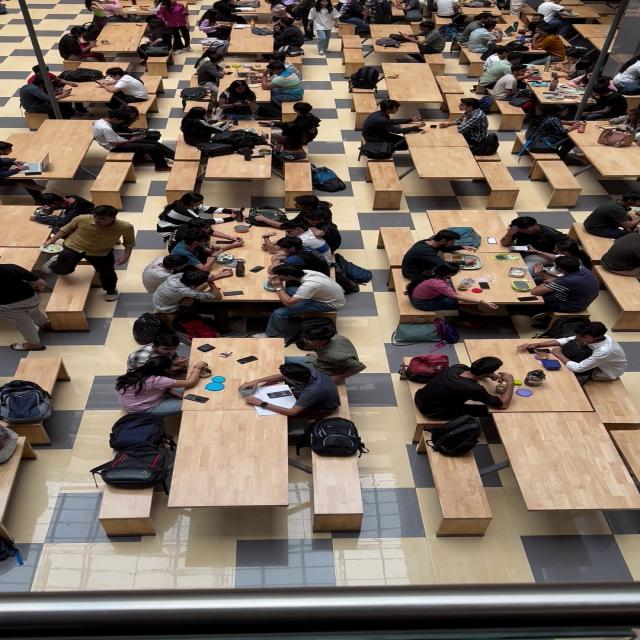Occupied: (26, 199, 161, 306), (190, 47, 316, 114), (95, 408, 177, 496), (16, 62, 155, 112), (0, 254, 70, 350), (174, 110, 320, 156), (0, 374, 65, 469), (0, 133, 63, 192)
Unoccupied: (95, 495, 166, 533), (360, 161, 417, 205), (415, 148, 484, 183), (95, 162, 141, 203), (206, 156, 272, 182), (287, 160, 319, 198), (172, 159, 198, 195), (97, 147, 139, 169)
